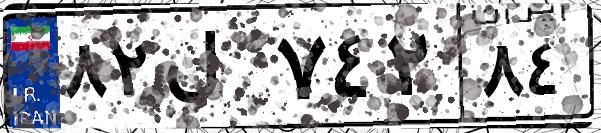2: (385, 28, 445, 110), (110, 28, 158, 98)
4: (330, 28, 385, 110), (525, 38, 570, 115)
7: (270, 28, 330, 110)
8: (57, 26, 110, 100), (475, 38, 525, 113)
ل: (158, 20, 270, 120)
